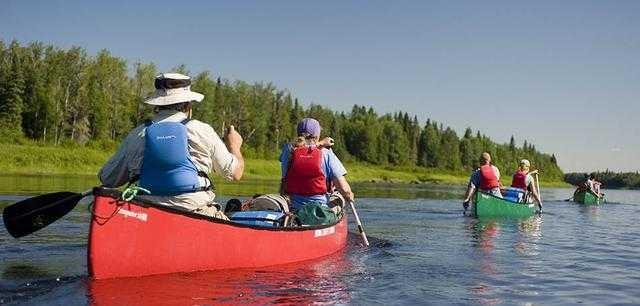kayak: (87, 188, 349, 281), (467, 188, 542, 221)
